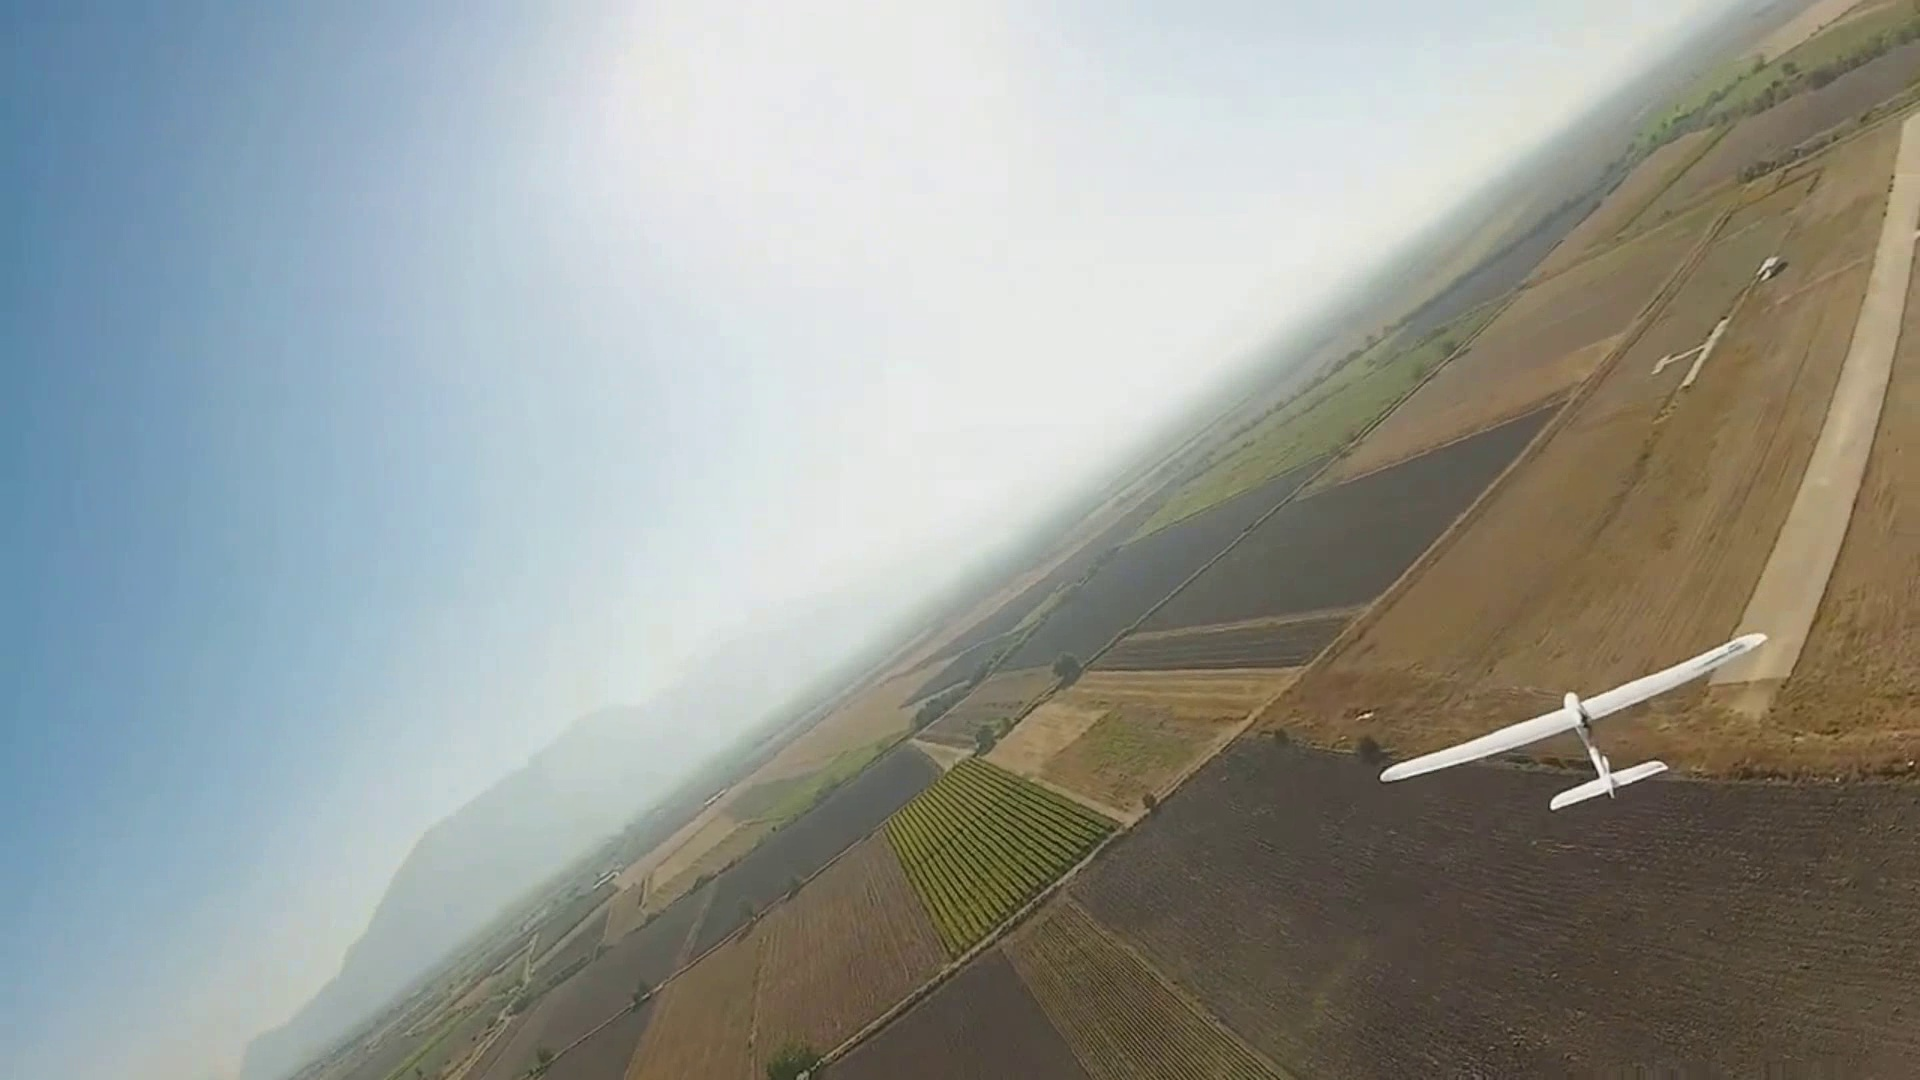airplane: (160, 11, 1903, 1063)
